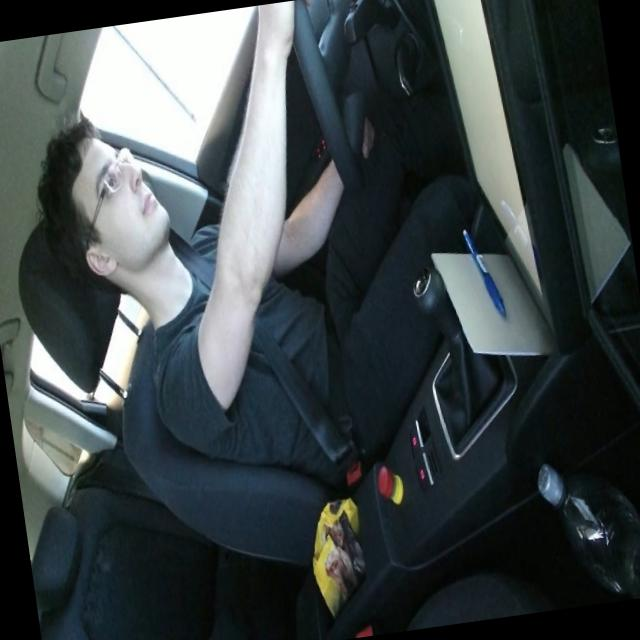pen: (460, 222, 508, 321)
